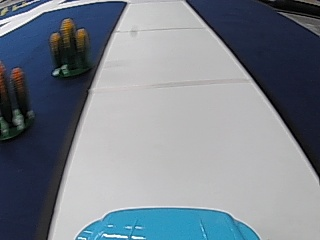corn: (47, 15, 92, 78), (0, 67, 33, 141)
